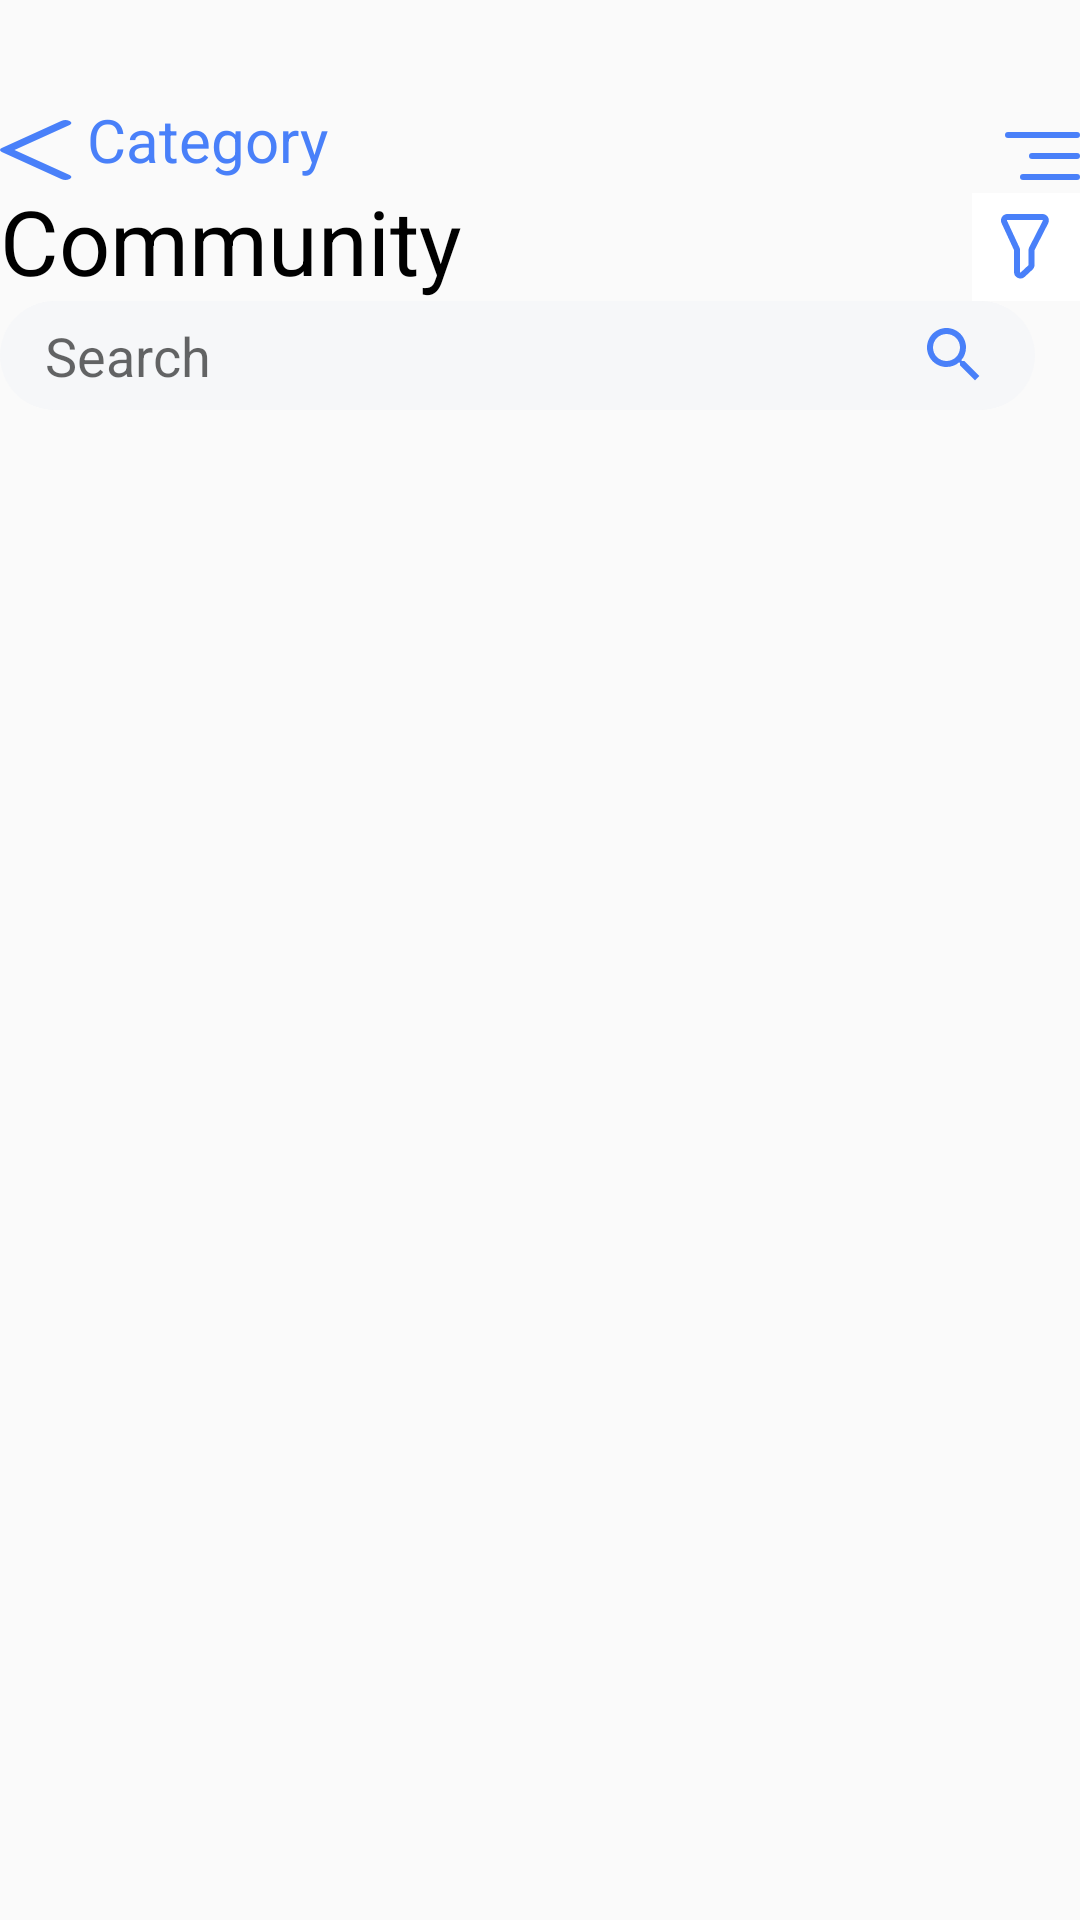

Screen size 1080*1920. Icon name, then its box in pixels as (x1, y1, x2, y2):
back province: (0, 120, 72, 180)
filter: (1001, 214, 1049, 279)
